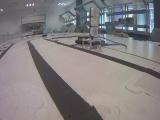tl_yellow: (89, 7, 100, 37)
